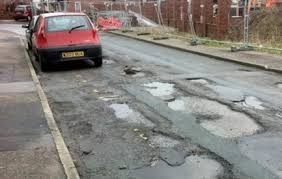pothole: (132, 145, 235, 179), (49, 100, 94, 157), (200, 115, 268, 141), (134, 123, 195, 144), (107, 101, 161, 122), (167, 99, 230, 113), (233, 94, 270, 111), (145, 81, 184, 97), (72, 71, 101, 86), (92, 88, 133, 98), (187, 77, 223, 87), (124, 66, 153, 78), (102, 54, 120, 67), (274, 79, 282, 87)
